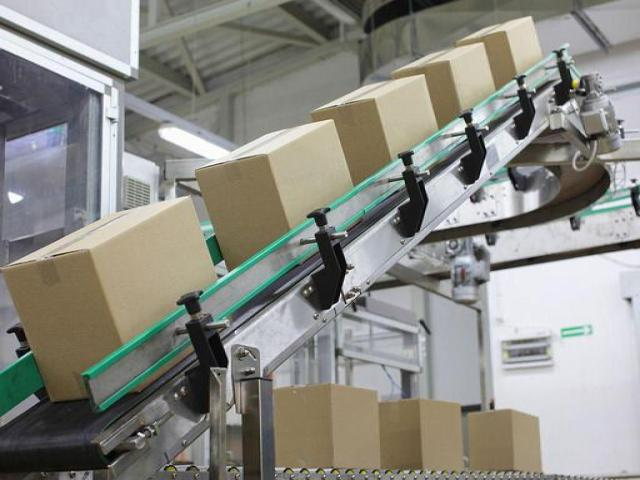conveyor: (0, 43, 576, 473)
